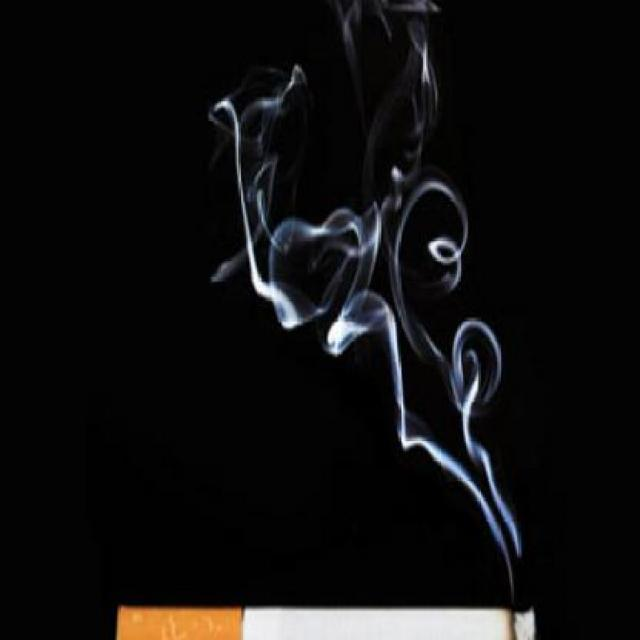cigarette: (110, 557, 558, 638)
